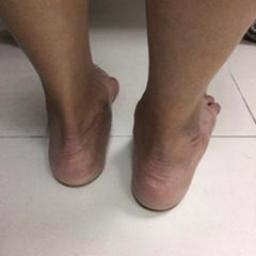Back View -Both Feet-: (20, 52, 230, 220)
